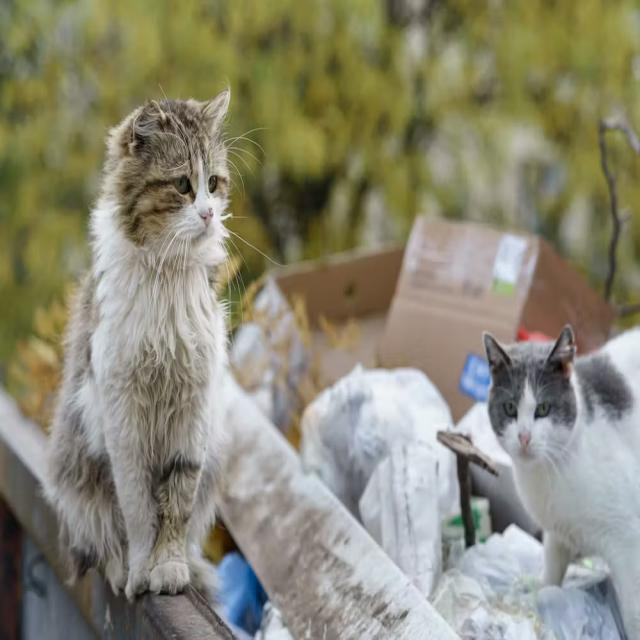cat: (49, 90, 230, 600), (482, 324, 640, 638)
